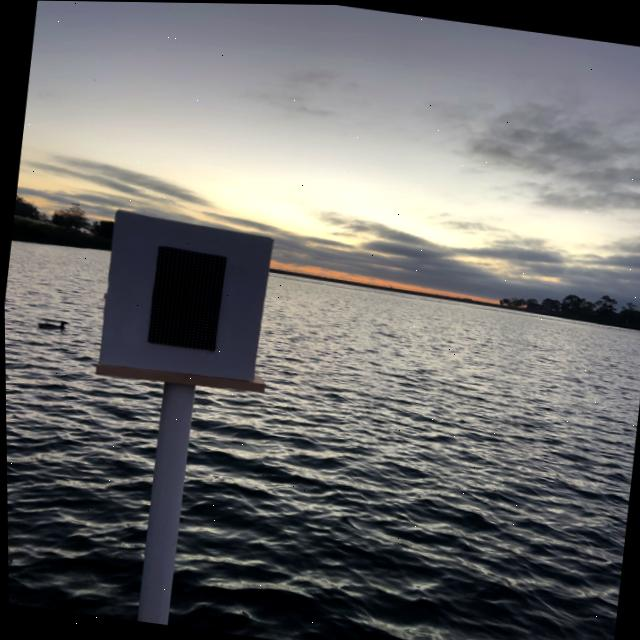led: (108, 219, 253, 374)
